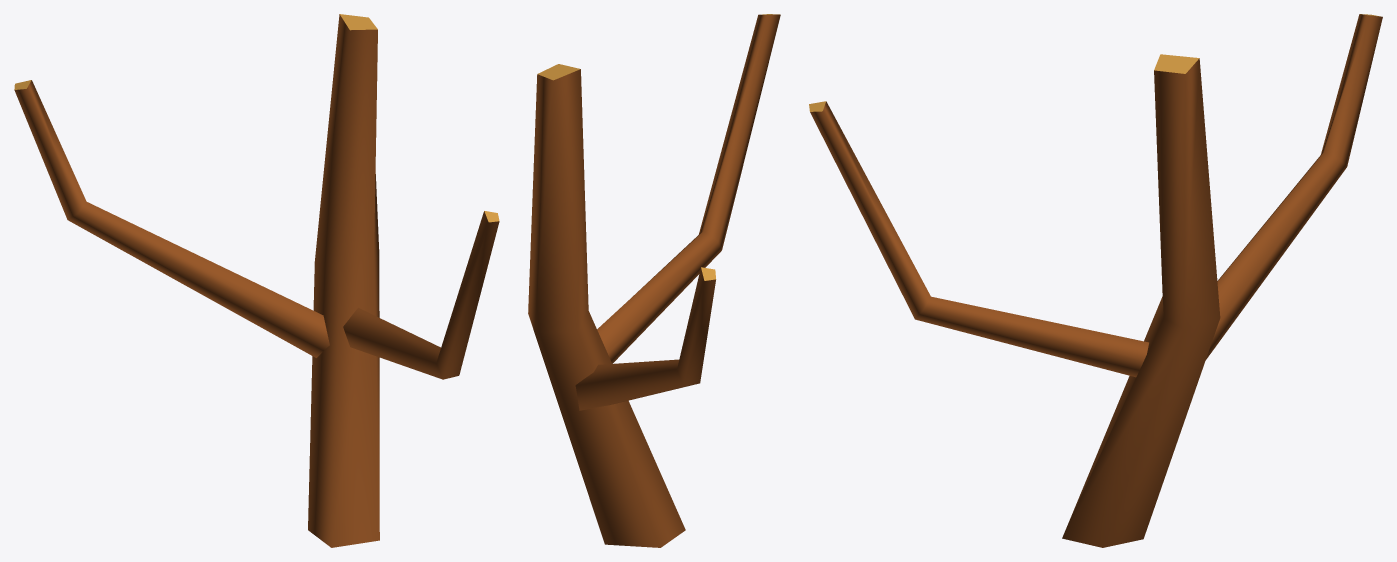
Rendered from TrunkC.fbx.
3 views of the same model, side by side, from view 1: azimuth 30°, elevation 25°; view 2: azimuth 150°, elevation 25°; view 3: azimuth 270°, elevation 25° (orthographic). The views are drawn at different scales.
Parts seen in each view (by area): view 1: TrunkC; view 2: TrunkC; view 3: TrunkC.
Part boxes in pixels (x1=…): TrunkC: x1=14, y1=14, x2=499, y2=547; TrunkC: x1=528, y1=14, x2=780, y2=547; TrunkC: x1=809, y1=14, x2=1382, y2=547.
Bounding box in the file's own units: 173 × 283 × 298.
